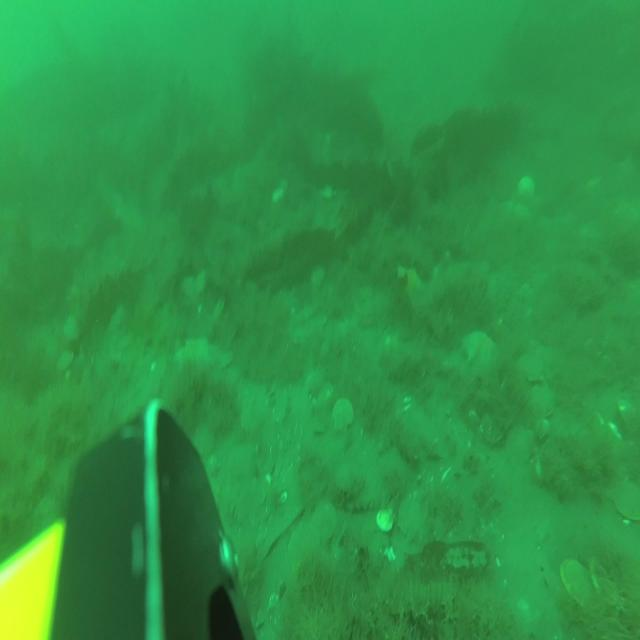scallop: (558, 554, 597, 612), (610, 470, 640, 526), (504, 424, 536, 469), (398, 495, 427, 542), (313, 498, 337, 548), (476, 406, 506, 444), (528, 382, 558, 418), (516, 350, 546, 382), (192, 420, 216, 460), (332, 395, 356, 435), (517, 168, 536, 201), (55, 346, 76, 375), (376, 505, 396, 534), (308, 261, 326, 292), (62, 315, 81, 342), (212, 293, 226, 324), (220, 346, 234, 374), (180, 275, 197, 298), (194, 267, 207, 293)
starfish: (173, 334, 216, 381), (462, 326, 498, 372)
